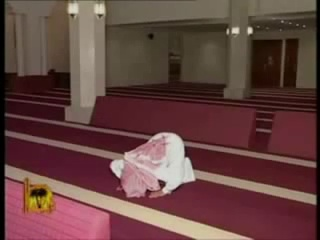sujud: (108, 133, 200, 201)
